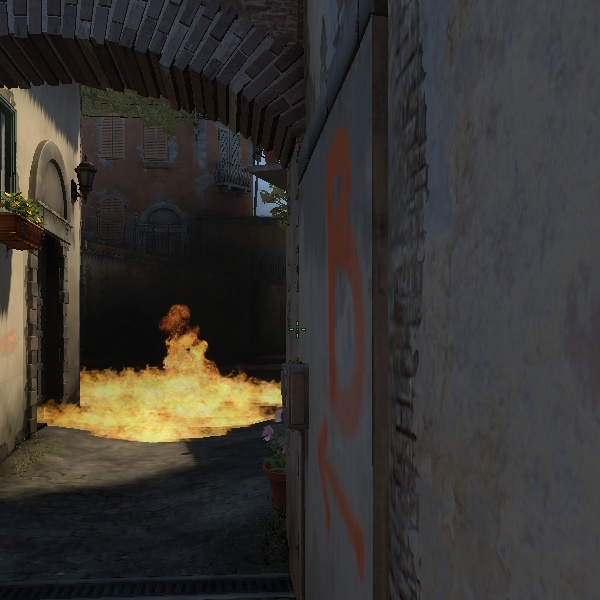t_body: (148, 296, 212, 366)
